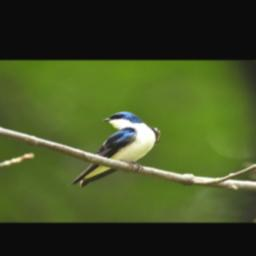Swallow: (69, 111, 162, 188)
